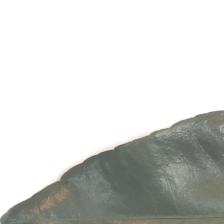healthy: (3, 97, 224, 219)
